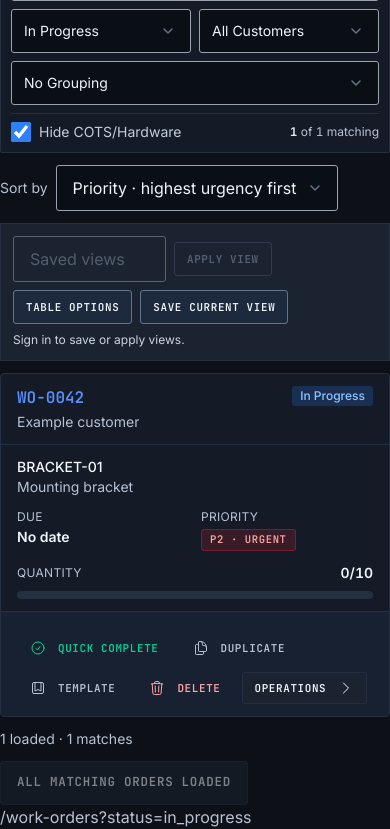
Test: opens the same operations popup from a mobile card
(page scrolled)
Click the button "Operations": [304, 688] box [242,672,367,704]
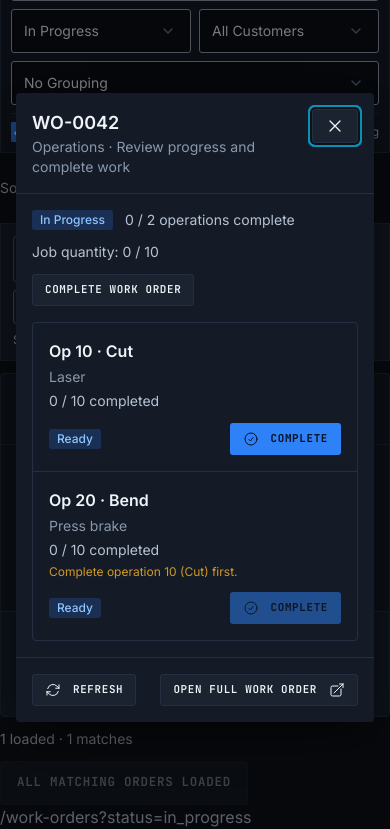
Result: the heading "Op 10 · Cut" is shown at [49,340,133,360]
Result: the dialog named "Operations for WO-0042" is shown
